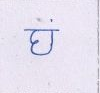anusvara: (37, 18, 41, 22)
